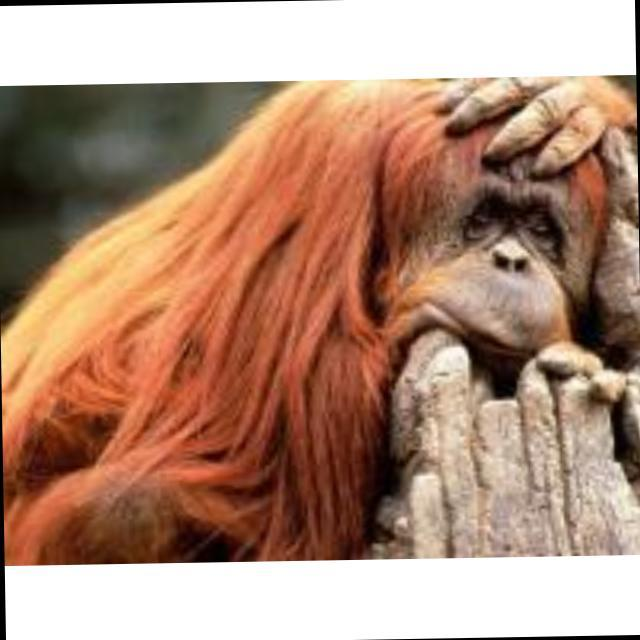Orangutan: (5, 93, 633, 529)
